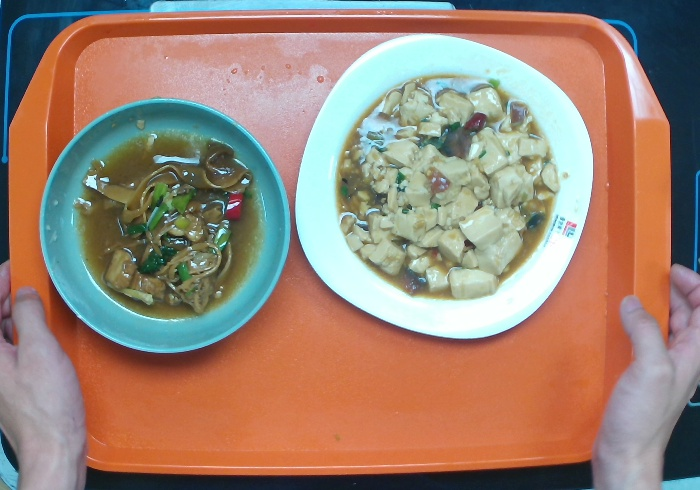ZNLD-Qing_Hua_Yuan_Wan: (38, 98, 288, 354)
ZNLD-Yuan_Jiao_Pan: (294, 33, 596, 340)
